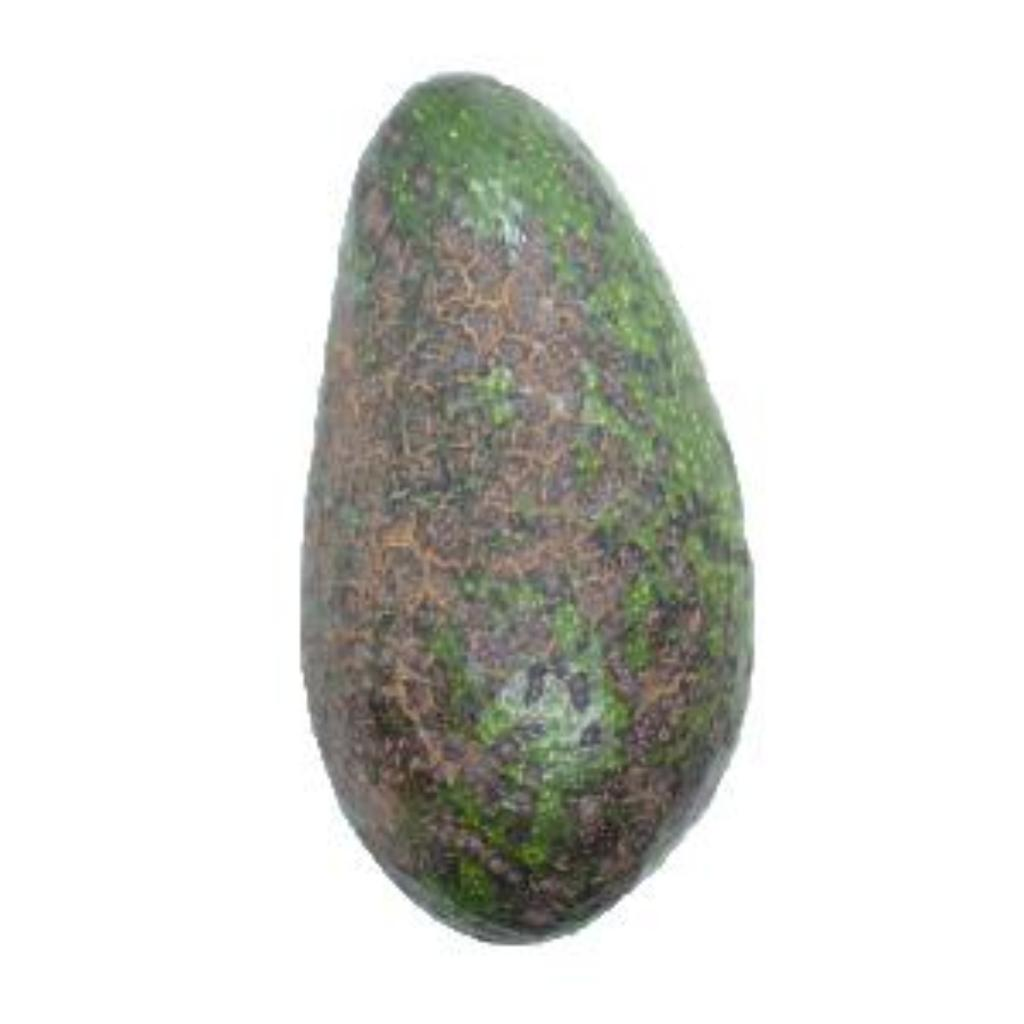cercospora: (226, 28, 827, 978)
